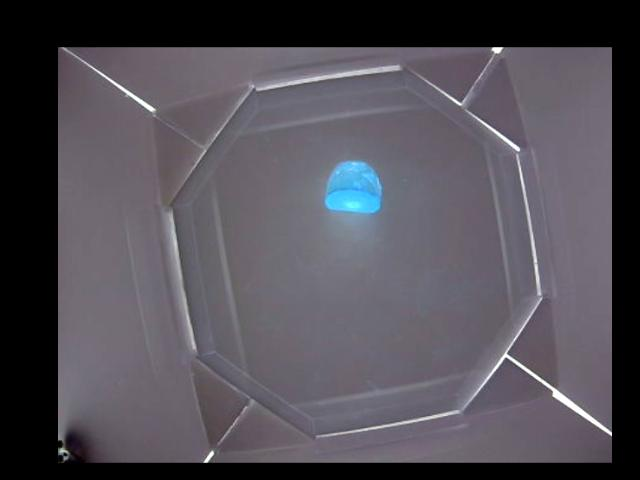Carrot: (326, 160, 383, 211)
